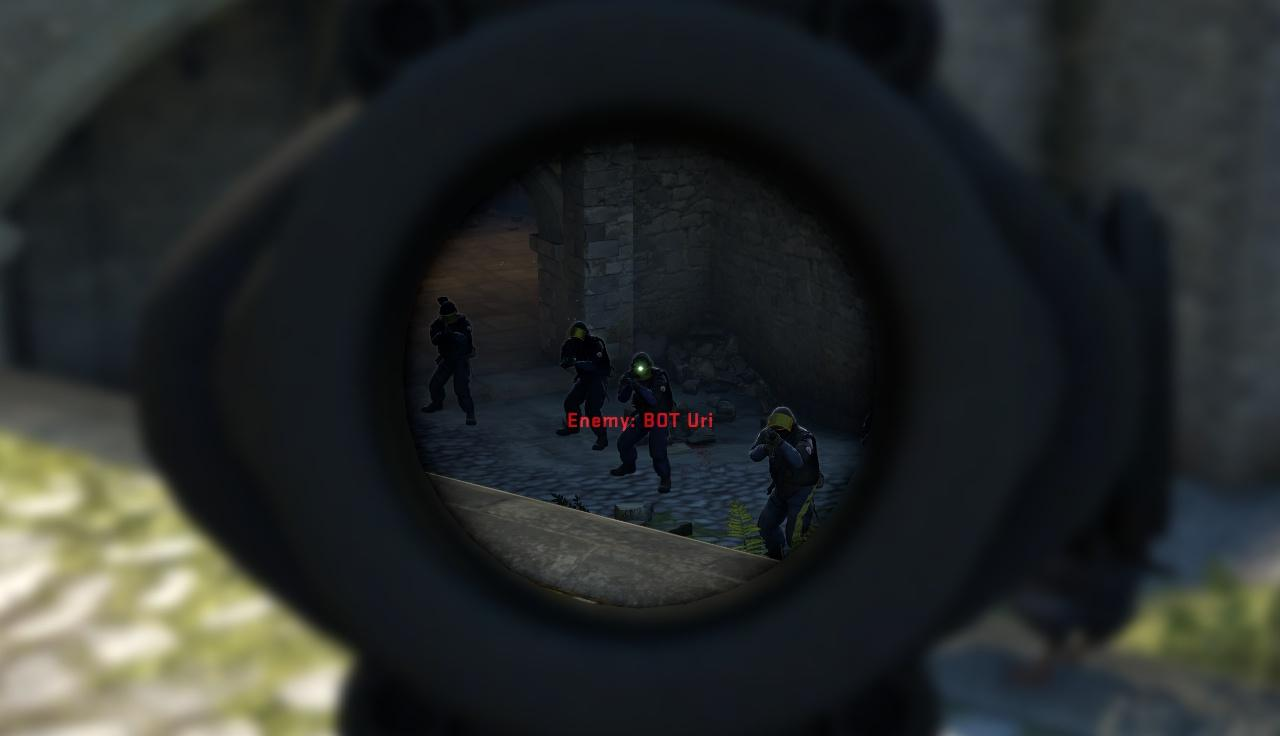ct: (752, 407, 815, 558), (623, 350, 676, 490), (562, 325, 608, 450), (428, 295, 471, 425)
cthead: (770, 407, 796, 438), (631, 352, 654, 378), (437, 299, 458, 325), (569, 323, 589, 345)
